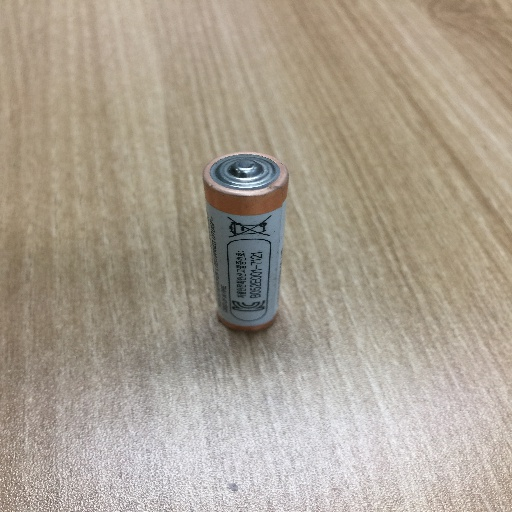Battery_0: (197, 139, 300, 346)
